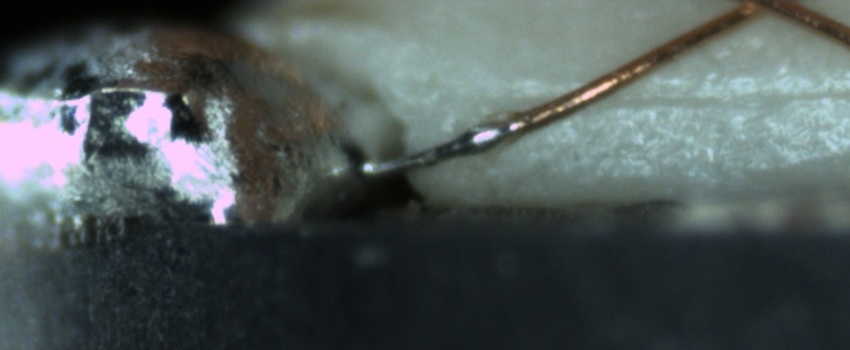CL: (716, 0, 805, 29)
DL: (516, 69, 850, 133)
TB: (458, 121, 515, 155)
TS: (362, 118, 525, 176)
TTCW: (356, 96, 564, 176)
